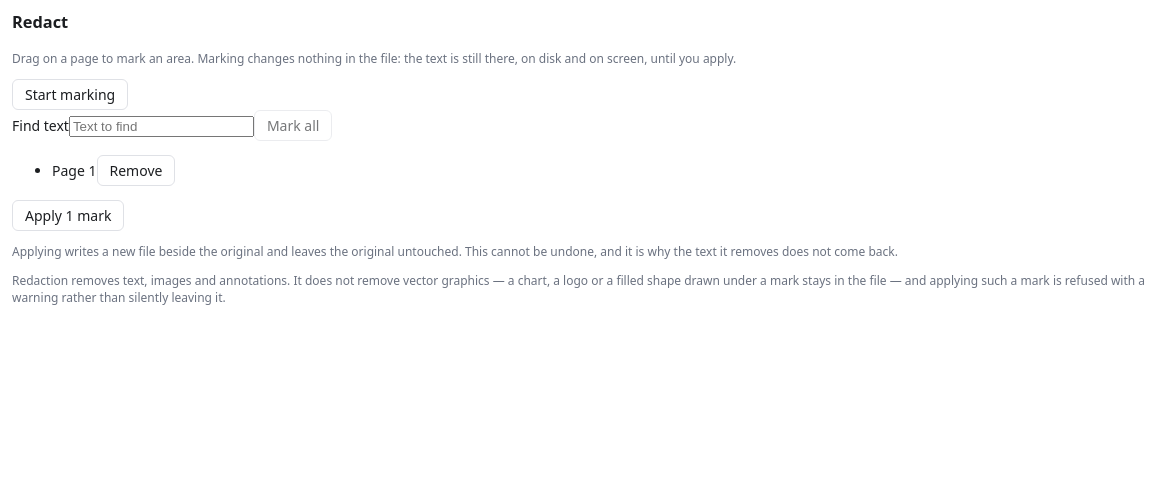
RedactPanel › says out loud that vector drawing under a mark was not removed
This screenshot has width=1164, height=499.
Click the button "Apply 1 mark".
click(68, 215)  # box [12,200,124,231]
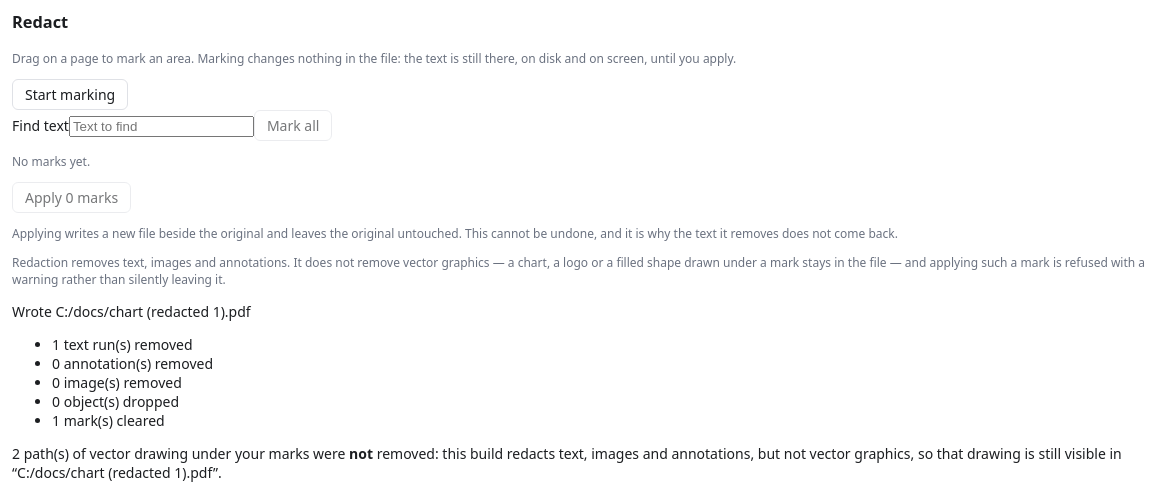
Check: the message shows "2 path(s) of vector drawing", box [12,444,1163,482]
Check: the message shows "not removed", box [12,444,1163,482]
Check: the message shows "not vector graphics", box [12,444,1122,482]
